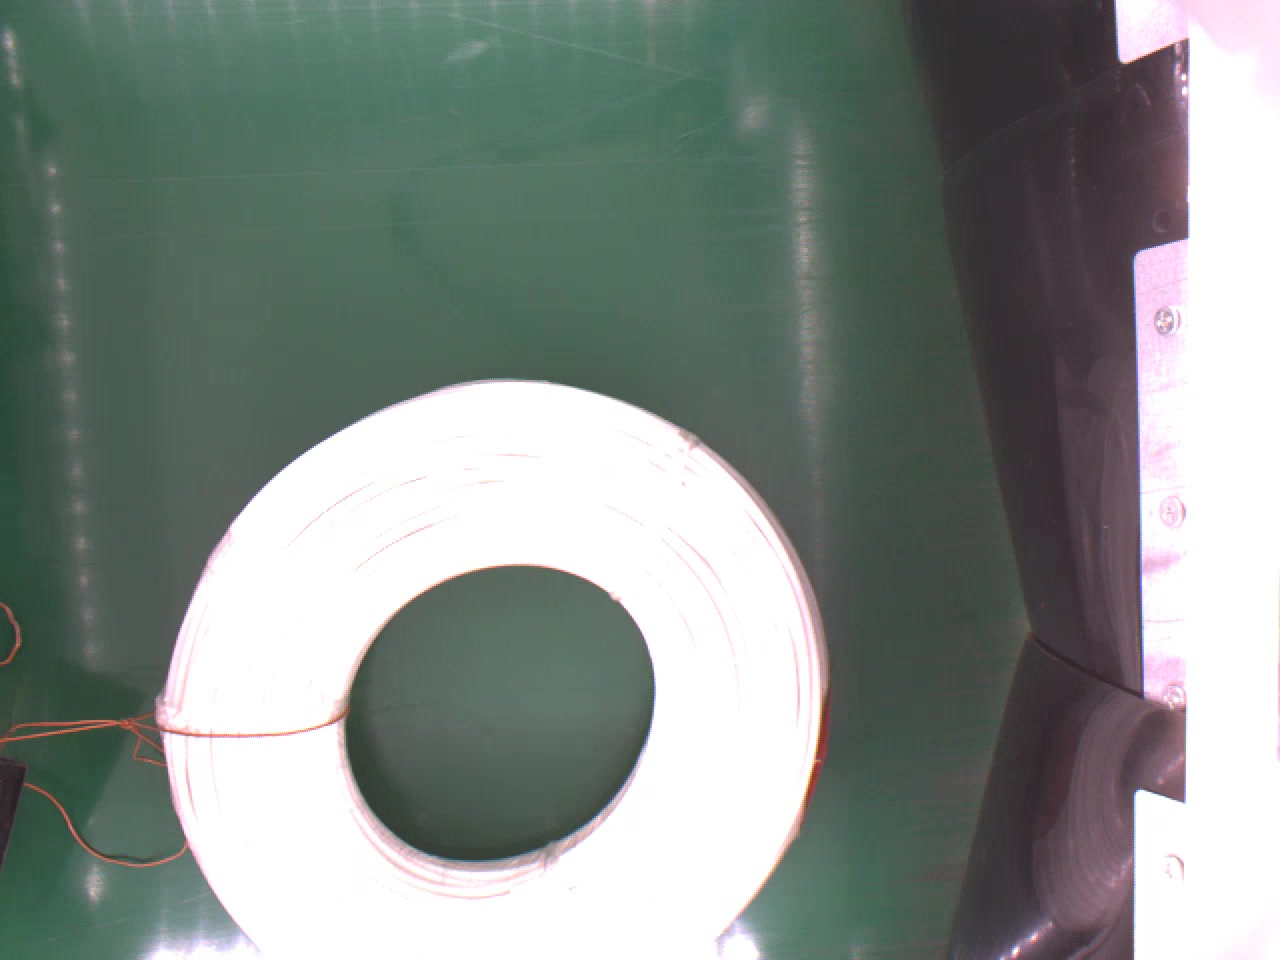white: (156, 379, 829, 960)
